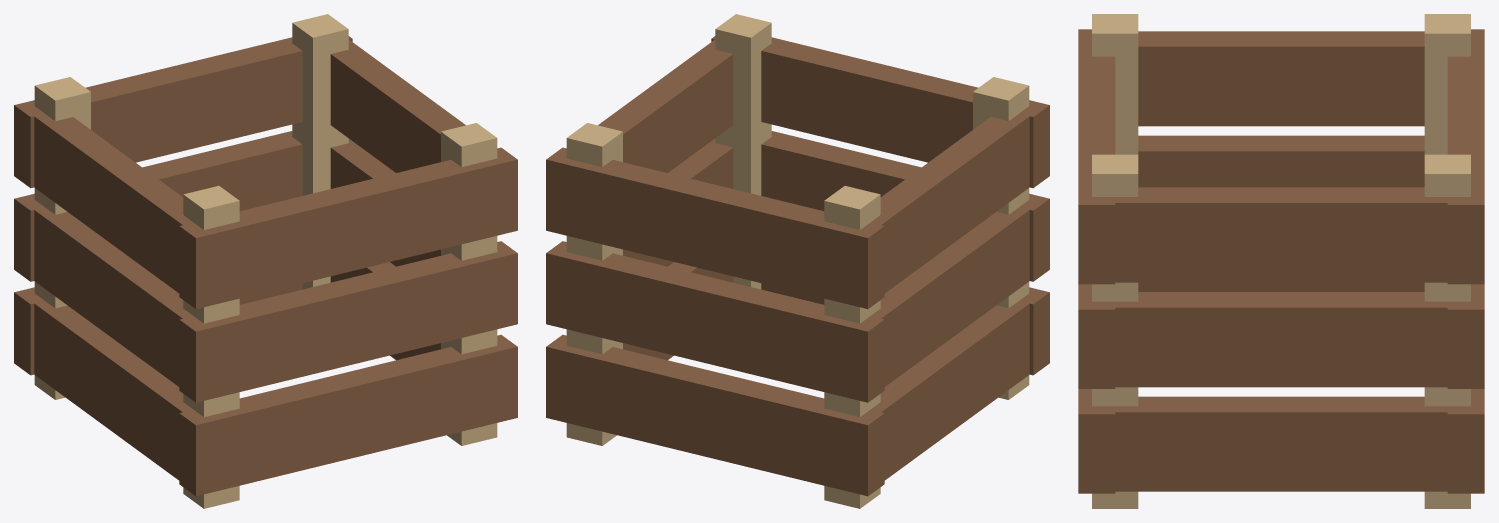
File: tpe5_crate.glb
3 renders of one model, left to right at view 1: azimuth 30°, elevation 25°; view 2: azimuth 150°, elevation 25°; view 3: azimuth 270°, elevation 25°, orthographic. The views are drawn at different scales.
Parts seen in each view (by area): view 1: tpe5_crate__tpe5-street-walnut, tpe5_crate__tpe5-street-brass; view 2: tpe5_crate__tpe5-street-walnut, tpe5_crate__tpe5-street-brass; view 3: tpe5_crate__tpe5-street-walnut, tpe5_crate__tpe5-street-brass.
Boxes of the visible parts, x1=… form: tpe5_crate__tpe5-street-walnut: x1=14, y1=36, x2=517, y2=496; tpe5_crate__tpe5-street-brass: x1=34, y1=14, x2=497, y2=508; tpe5_crate__tpe5-street-walnut: x1=546, y1=36, x2=1049, y2=496; tpe5_crate__tpe5-street-brass: x1=566, y1=14, x2=1029, y2=508; tpe5_crate__tpe5-street-walnut: x1=1078, y1=29, x2=1484, y2=493; tpe5_crate__tpe5-street-brass: x1=1092, y1=14, x2=1470, y2=508.
Bounding box in the file's own units: 0.9 × 0.8 × 0.88.
